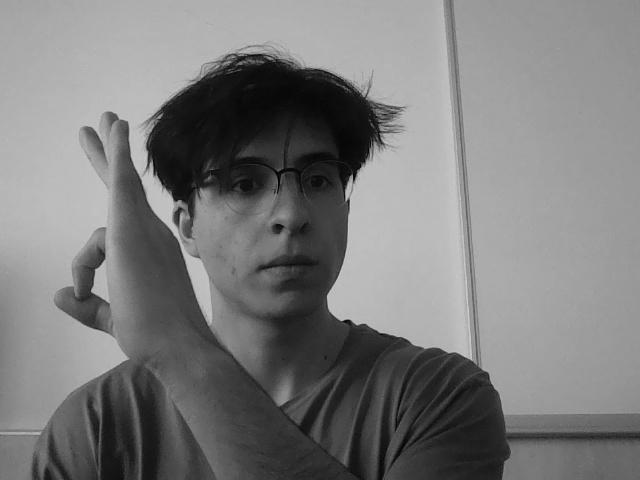OK: (30, 112, 174, 364)
